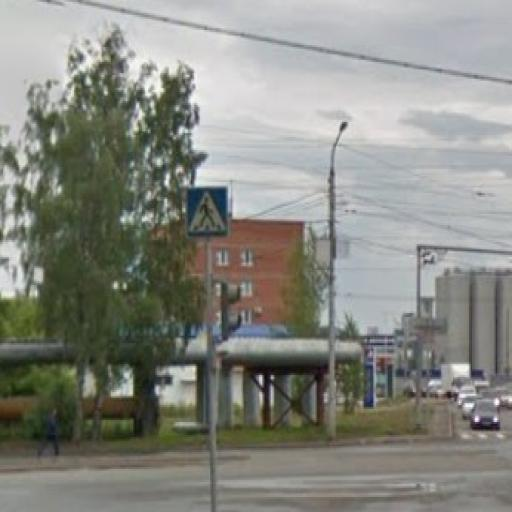traffic_sign: (183, 183, 233, 243)
